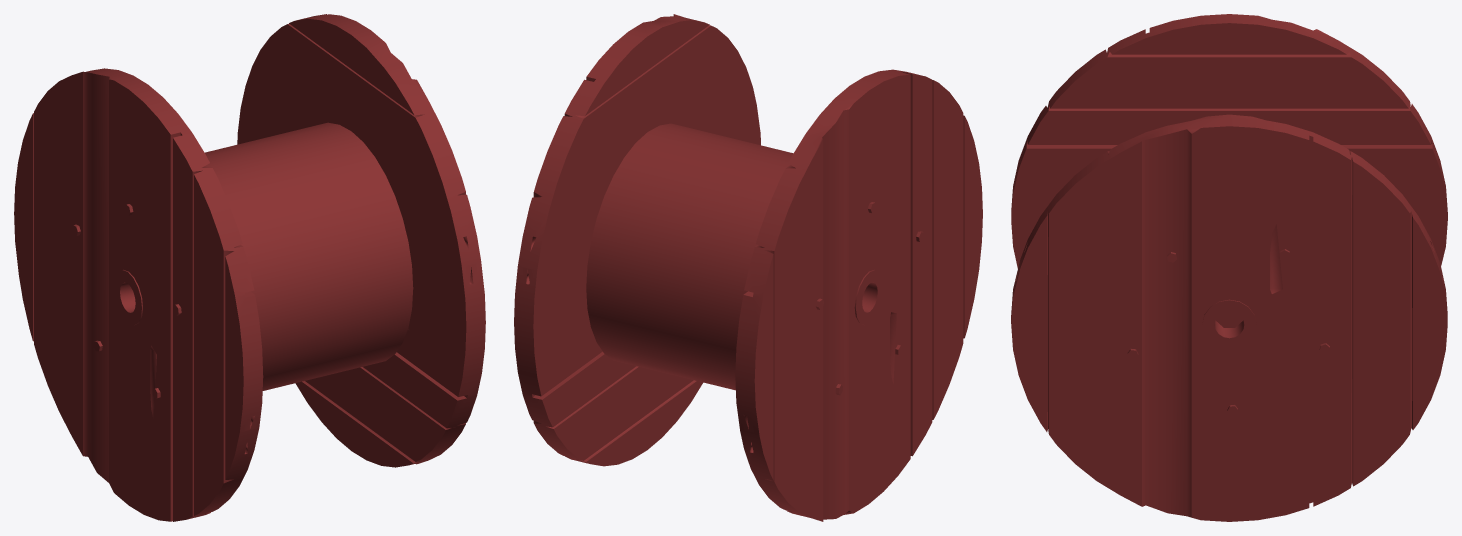
File: SM_CableReel02.fbx
The picture shows the model from 3 angles, left to right: view 1: azimuth 30°, elevation 25°; view 2: azimuth 150°, elevation 25°; view 3: azimuth 270°, elevation 25°; orthographic projection. The views are drawn at different scales.
Parts seen in each view (by area): view 1: CableReel02; view 2: CableReel02; view 3: CableReel02.
Part boxes in pixels (x1,y1,x2,y2): CableReel02: (14, 14, 485, 521); CableReel02: (514, 14, 982, 521); CableReel02: (1011, 14, 1447, 521).
Bounding box in the file's own units: 87.11 × 140 × 140.
